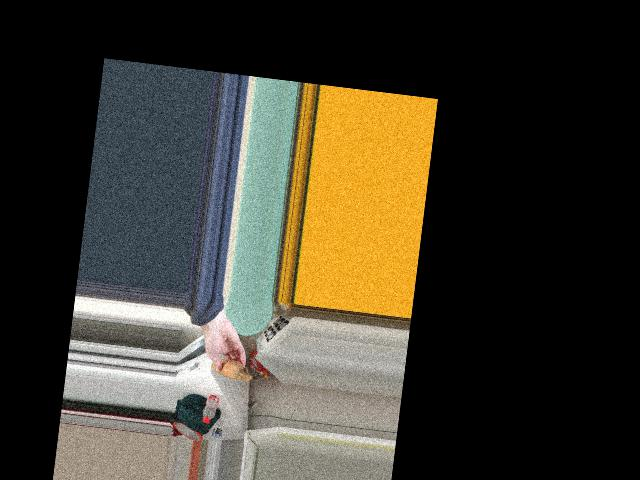sweet_potato: (212, 359, 245, 380)
